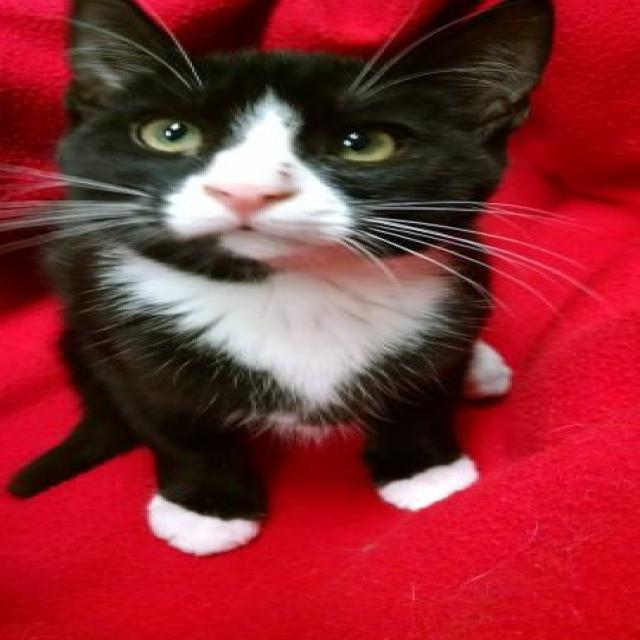Tuxedo: (0, 0, 562, 558)
